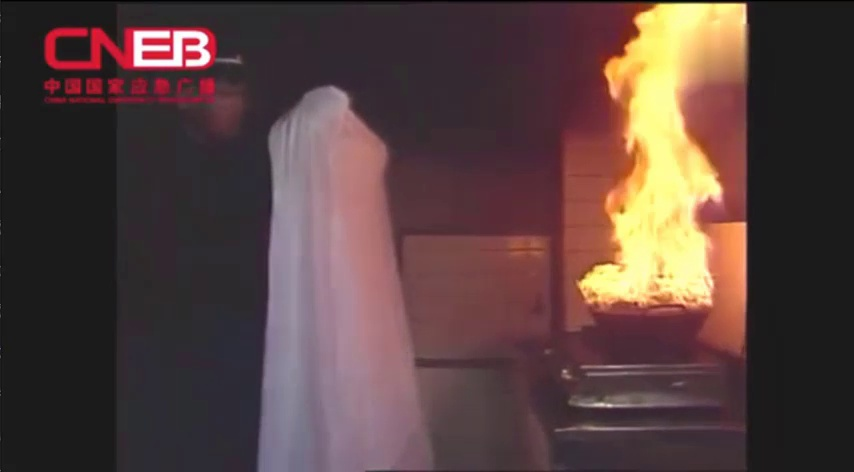fire: (560, 4, 745, 329)
